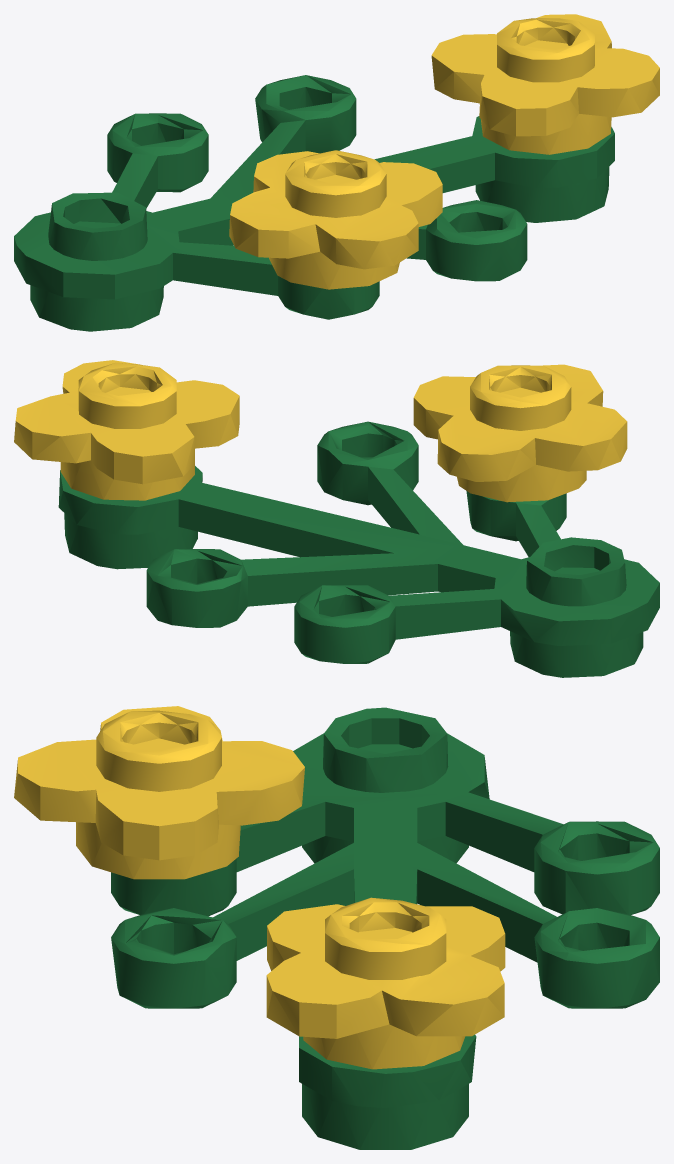
The model's file is frog_stem_b_yellow.glb.
3 renders of one model, top to bottom at view 1: azimuth 30°, elevation 25°; view 2: azimuth 150°, elevation 25°; view 3: azimuth 270°, elevation 25°, orthographic. The views are drawn at different scales.
Visible parts, largest first — view 1: frog_stem_b_yellow; view 2: frog_stem_b_yellow; view 3: frog_stem_b_yellow.
Part boxes in pixels (x1,y1,x2,y2): frog_stem_b_yellow: (14,14,659,331); frog_stem_b_yellow: (14,360,659,677); frog_stem_b_yellow: (14,706,659,1149).
Bounding box in the file's own units: 1.17 × 0.3053 × 0.875.
